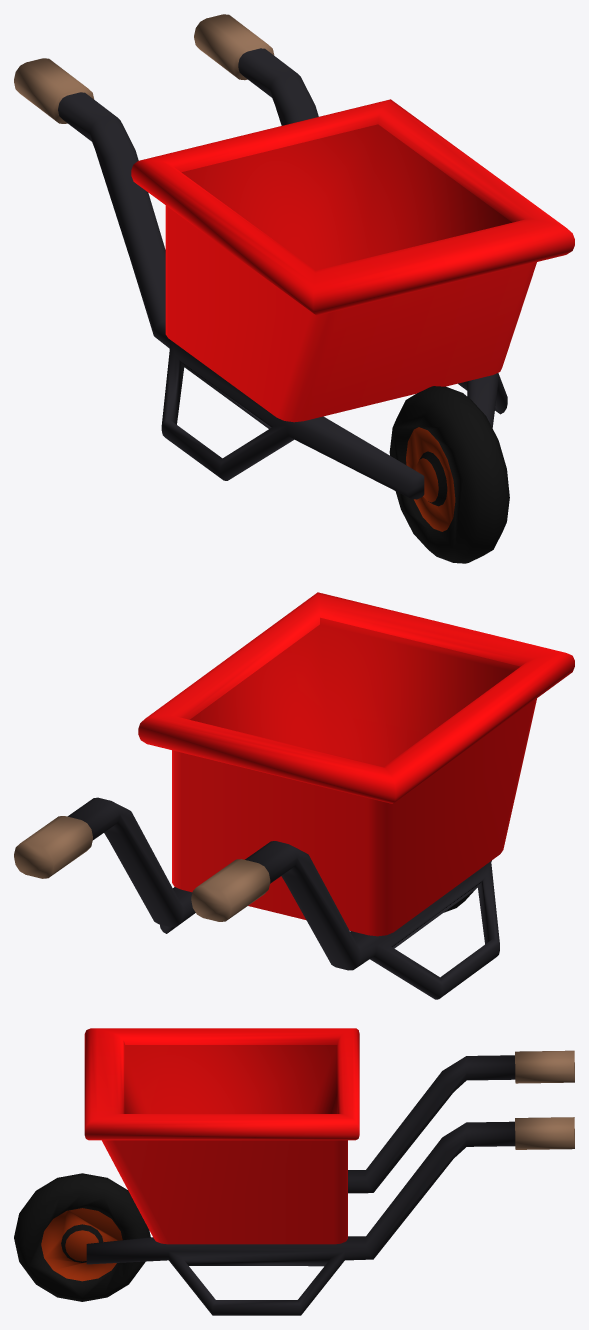
The model's file is el arabası.fbx.
3 renders of one model, top to bottom at view 1: azimuth 30°, elevation 25°; view 2: azimuth 150°, elevation 25°; view 3: azimuth 270°, elevation 25°, orthographic. The views are drawn at different scales.
Visible parts, largest first — view 1: Plane; view 2: Plane; view 3: Plane.
Boxes of the visible parts, x1,y1,x2,y2 form: Plane: (14,14,574,563); Plane: (14,592,574,999); Plane: (14,1028,574,1315).
Size of the model in its own units: 64.16 by 63.29 by 143.
1 material, 1 textured.
